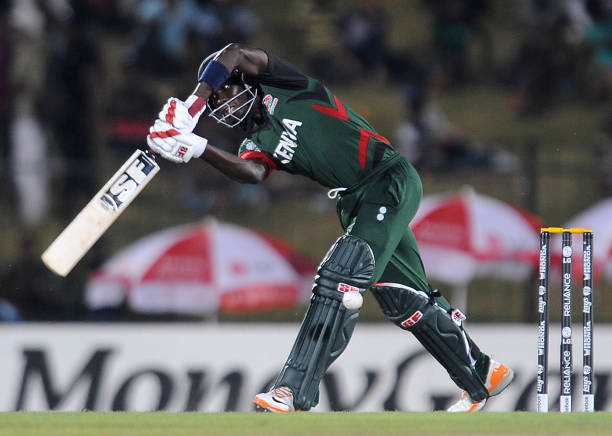bottom left: (35, 248, 53, 266)
bottom right: (49, 264, 75, 290)
top left: (128, 141, 146, 159)
top right: (146, 162, 166, 182)
